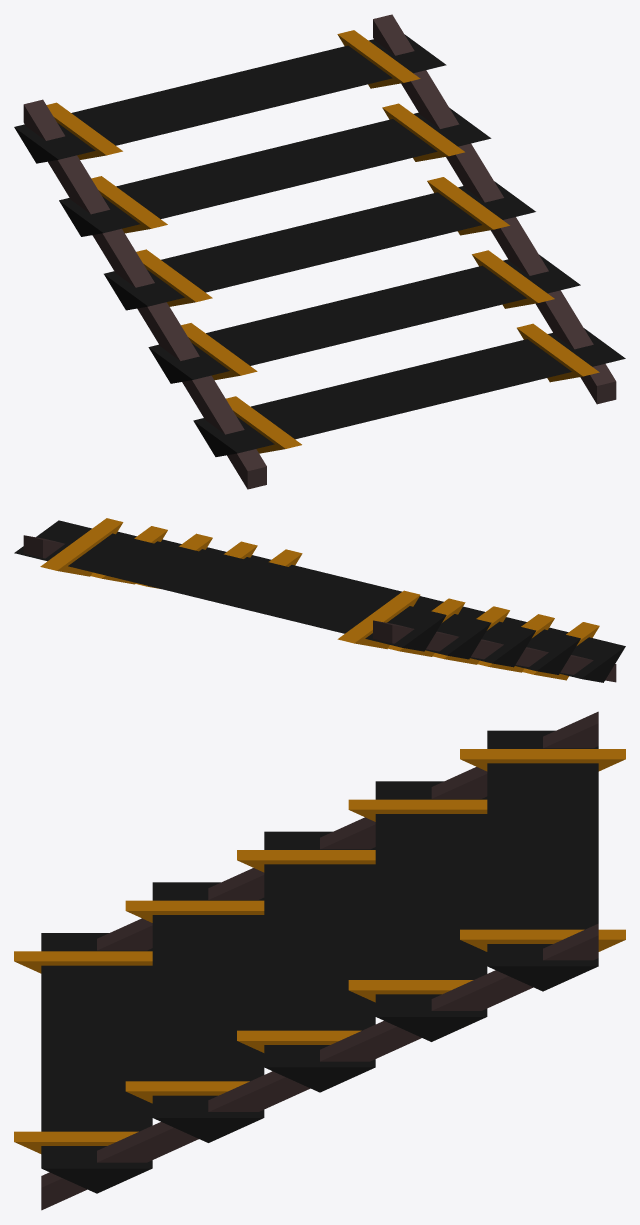
Rendered from Staircase Short.fbx.
The picture shows the model from 3 angles, top to bottom: view 1: azimuth 30°, elevation 25°; view 2: azimuth 150°, elevation 25°; view 3: azimuth 270°, elevation 25°; orthographic projection. The views are drawn at different scales.
Parts seen in each view (by area): view 1: Staircase Short; view 2: Staircase Short; view 3: Staircase Short.
Boxes of the visible parts, <box> form: Staircase Short: <box>14,14,625,489</box>; Staircase Short: <box>14,518,625,682</box>; Staircase Short: <box>14,711,625,1210</box>.
Size of the model in its own units: 200 by 109 by 220.
